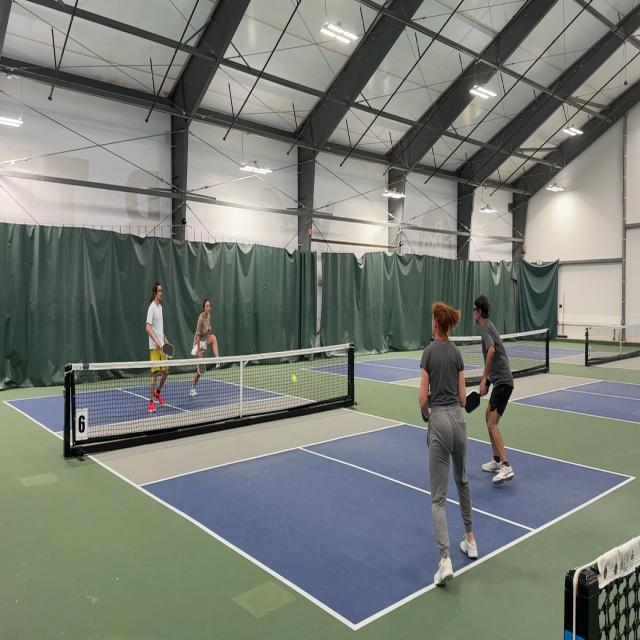ball: (292, 375, 297, 384)
